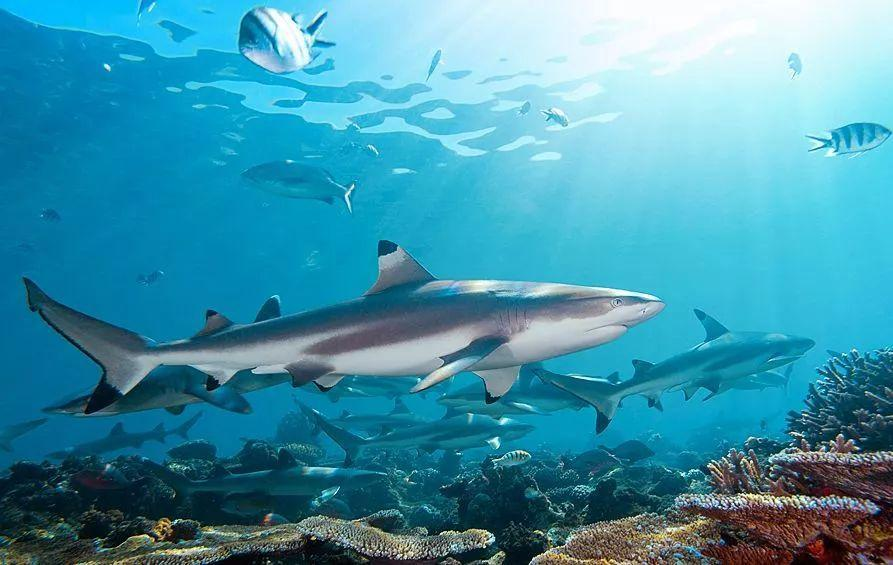fish: (17, 229, 662, 419)
